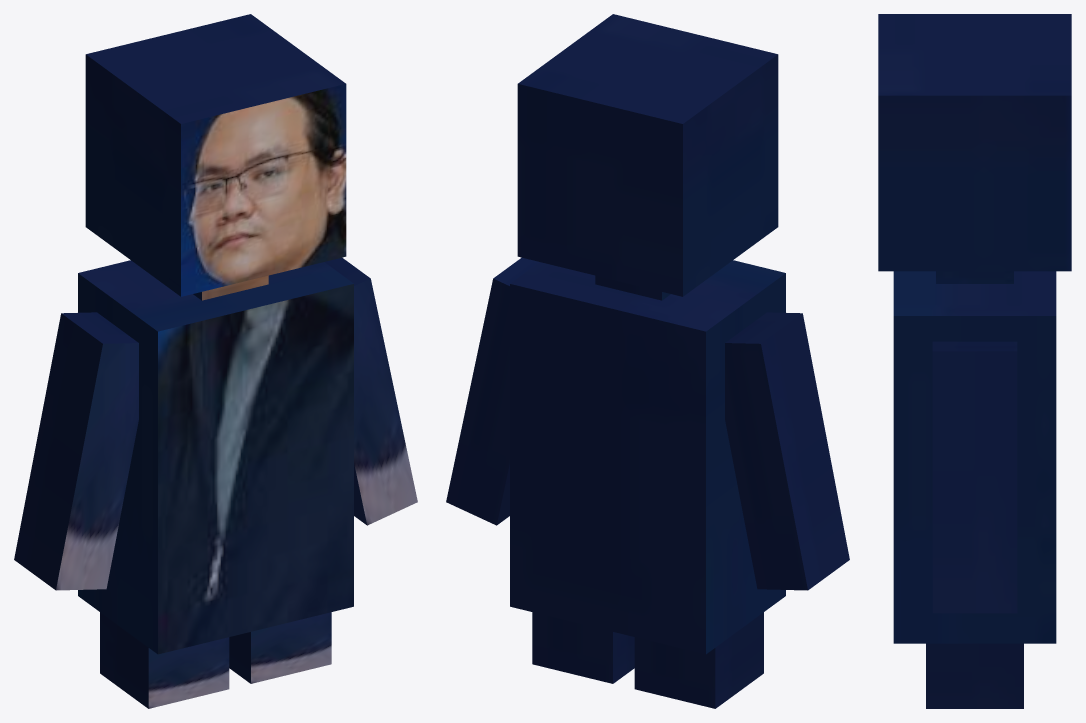
Rendered from carl.fbx.
The picture shows the model from 3 angles, left to right: view 1: azimuth 30°, elevation 25°; view 2: azimuth 150°, elevation 25°; view 3: azimuth 270°, elevation 25°; orthographic projection.
Visible parts, largest first — view 1: pCube2, pCube1, pCube7, pCube6, pCube9, pCube8, pCube3; view 2: pCube2, pCube1, pCube7, pCube6, pCube9, pCube8, pCube3; view 3: pCube1, pCube2, pCube6, pCube8, pCube3.
Boxes of the visible parts, x1,y1,x2,y2 form: pCube2: [78, 260, 353, 654]; pCube1: [85, 14, 346, 296]; pCube7: [14, 312, 138, 590]; pCube6: [325, 257, 417, 525]; pCube9: [100, 612, 229, 708]; pCube8: [229, 612, 331, 683]; pCube3: [193, 275, 268, 300]; pCube2: [510, 260, 785, 654]; pCube1: [517, 14, 778, 296]; pCube7: [725, 312, 849, 590]; pCube6: [446, 257, 538, 525]; pCube9: [634, 612, 763, 708]; pCube8: [532, 612, 634, 683]; pCube3: [595, 275, 670, 300]; pCube1: [878, 14, 1071, 271]; pCube2: [893, 271, 1056, 643]; pCube6: [932, 341, 1017, 613]; pCube8: [926, 643, 1023, 708]; pCube3: [936, 271, 1013, 283].
Size of the model in its own units: 2.19 by 3.47 by 1.
